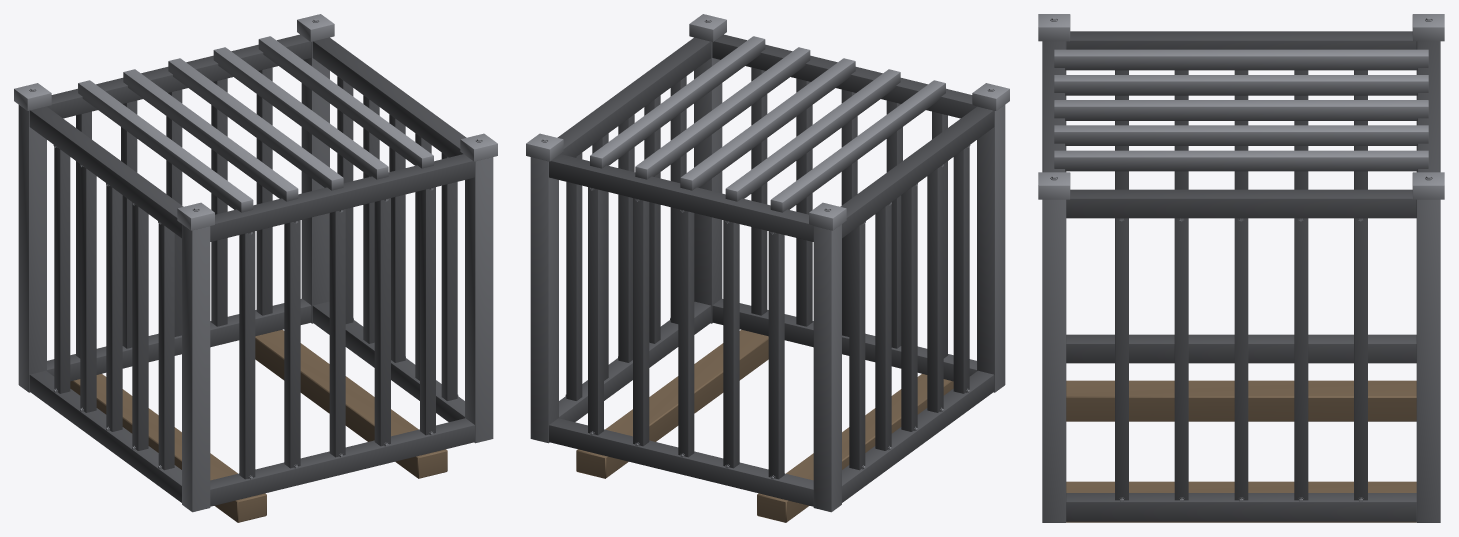
File: rig_cage_small.glb
3 views of the same model, side by side, from view 1: azimuth 30°, elevation 25°; view 2: azimuth 150°, elevation 25°; view 3: azimuth 270°, elevation 25° (orthographic). The views are drawn at different scales.
Visible parts, largest first — view 1: rig_cage_small; view 2: rig_cage_small; view 3: rig_cage_small.
Part boxes in pixels (x1,y1,x2,y2): rig_cage_small: [14, 14, 497, 522]; rig_cage_small: [526, 14, 1009, 522]; rig_cage_small: [1038, 14, 1444, 522].
Size of the model in its own units: 2.04 by 2.03 by 2.04.
